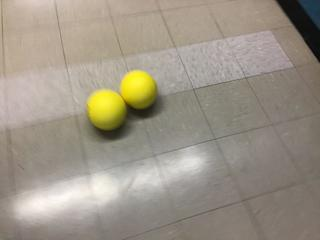power_cell: (86, 89, 130, 133), (119, 69, 159, 111)
